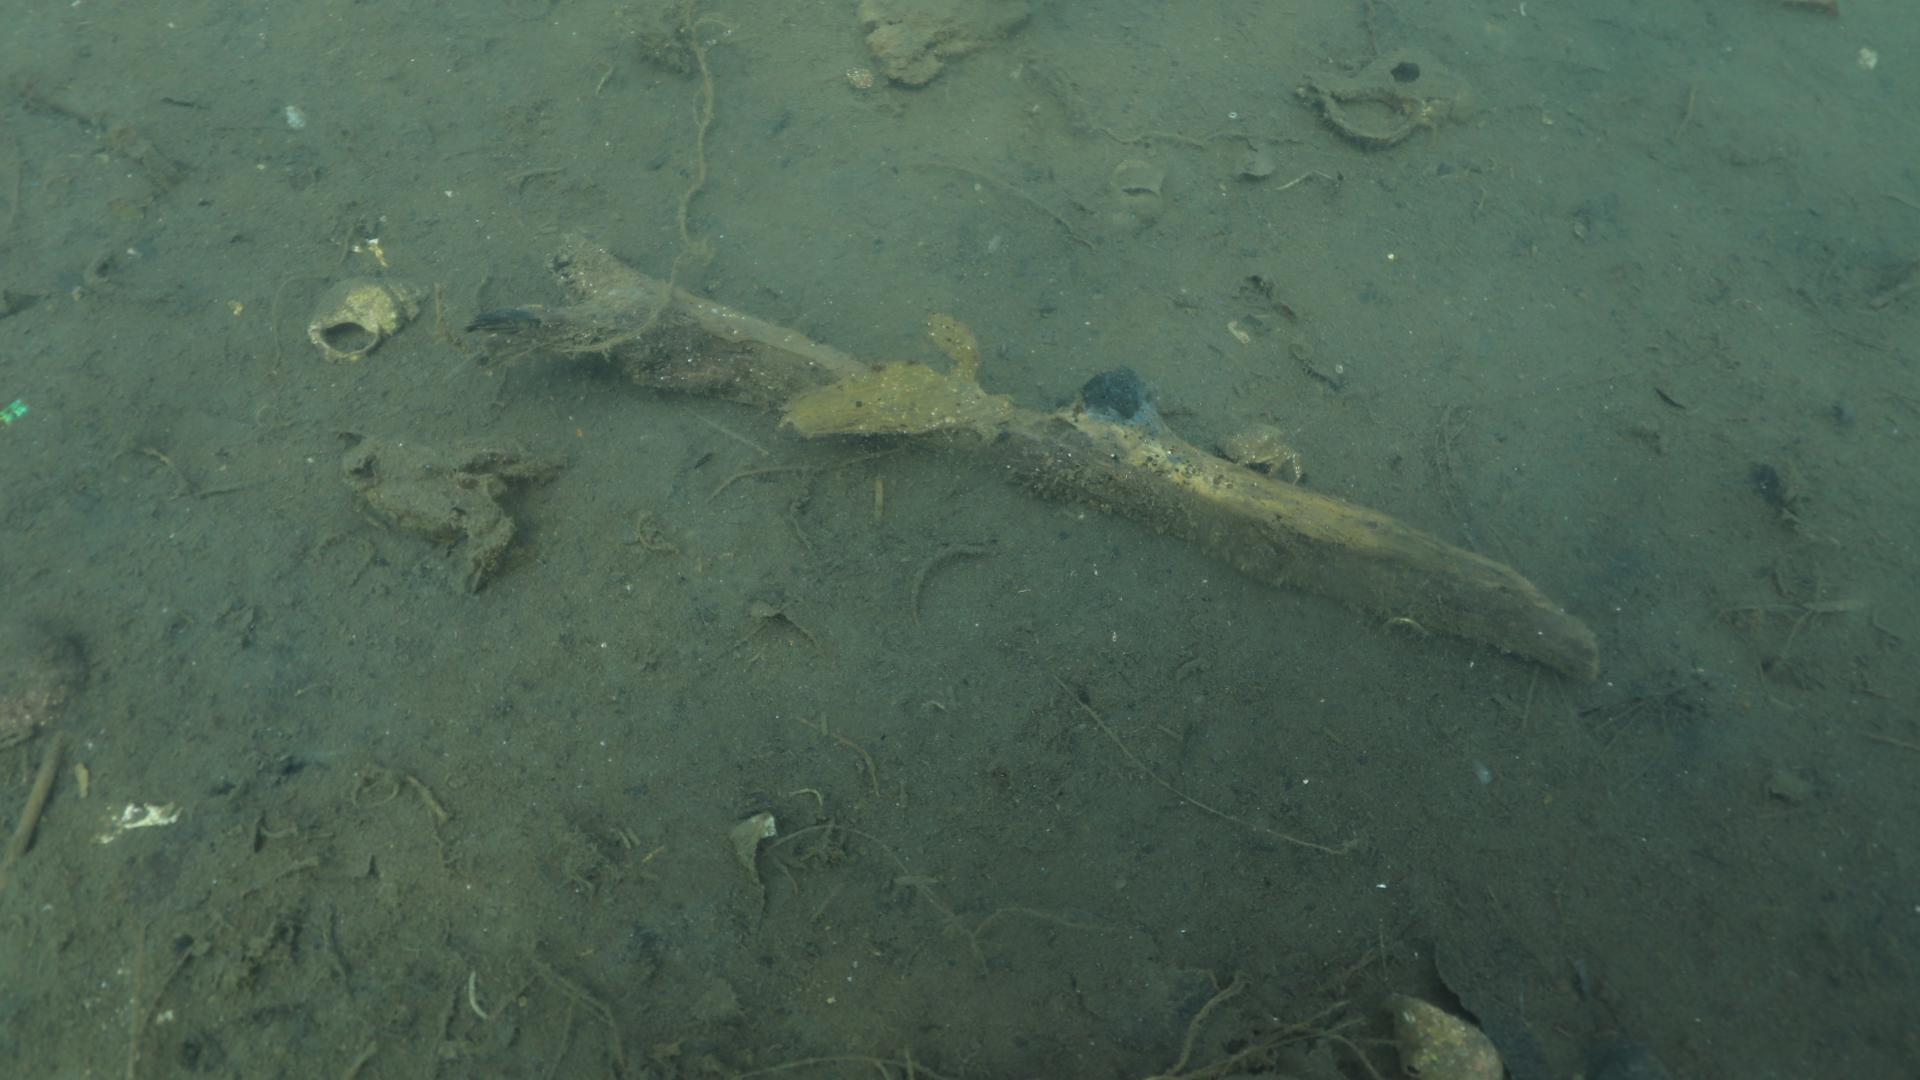wood: (459, 232, 1598, 684)
